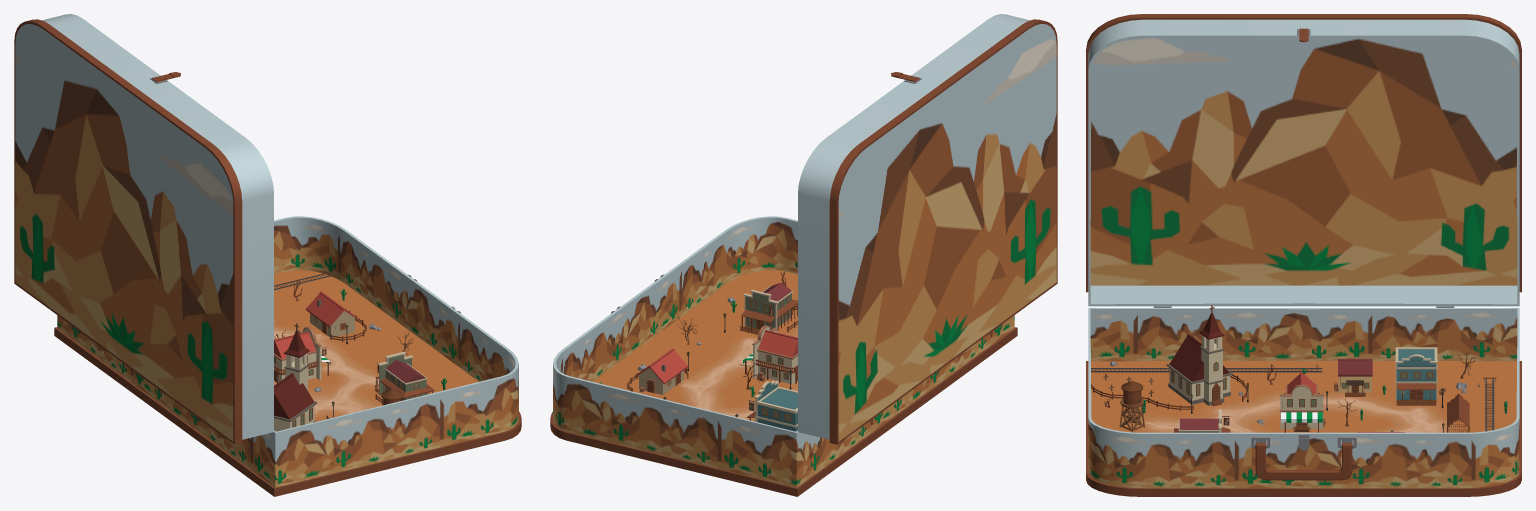
The model's file is Koffer_komplett.fbx.
The picture shows the model from 3 angles, left to right: view 1: azimuth 30°, elevation 25°; view 2: azimuth 150°, elevation 25°; view 3: azimuth 270°, elevation 25°; orthographic projection.
Parts seen in each view (by area): view 1: Cube.043; view 2: Cube.043; view 3: Cube.043.
Part boxes in pixels (<box>): Cube.043: <box>14,14,521,496</box>; Cube.043: <box>550,14,1057,496</box>; Cube.043: <box>1086,14,1521,496</box>.
Size of the model in its own units: 5365 by 5590 by 6568.
